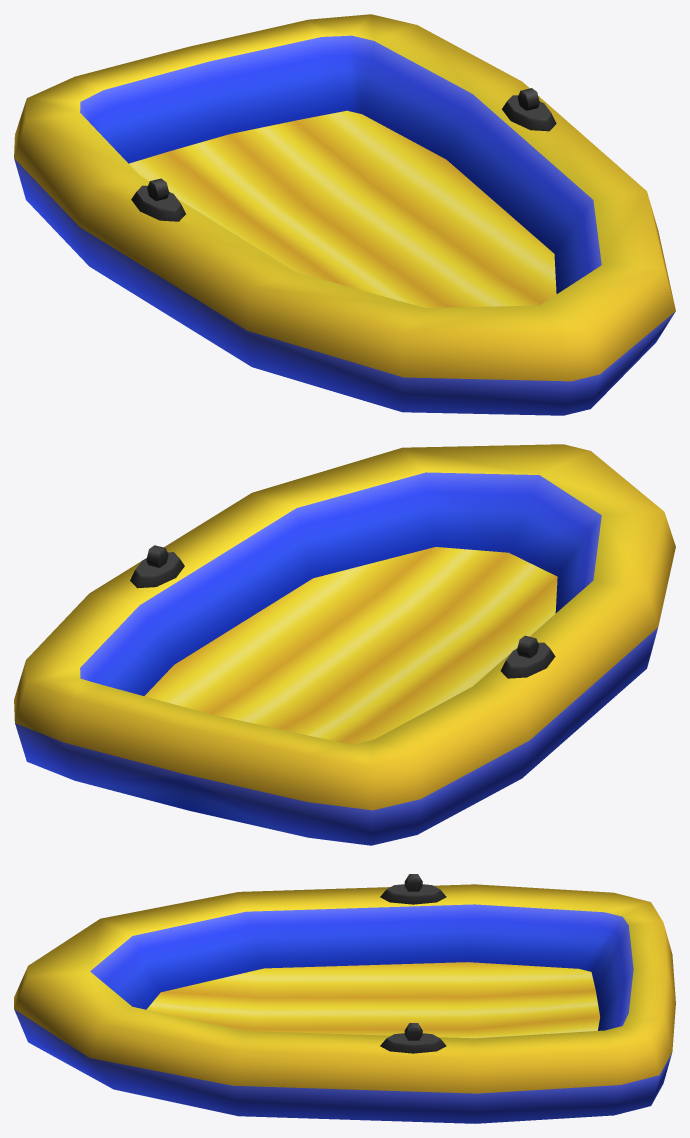
File: Inflatable_Boat_01.fbx
The picture shows the model from 3 angles, top to bottom: view 1: azimuth 30°, elevation 25°; view 2: azimuth 150°, elevation 25°; view 3: azimuth 270°, elevation 25°; orthographic projection. The views are drawn at different scales.
Parts seen in each view (by area): view 1: Inflatable_Boat_01; view 2: Inflatable_Boat_01; view 3: Inflatable_Boat_01.
Boxes of the visible parts, x1,y1,x2,y2 form: Inflatable_Boat_01: [14, 14, 675, 415]; Inflatable_Boat_01: [14, 444, 675, 845]; Inflatable_Boat_01: [14, 874, 675, 1123].
Size of the model in its own units: 0.5888 by 0.1594 by 0.9106.
